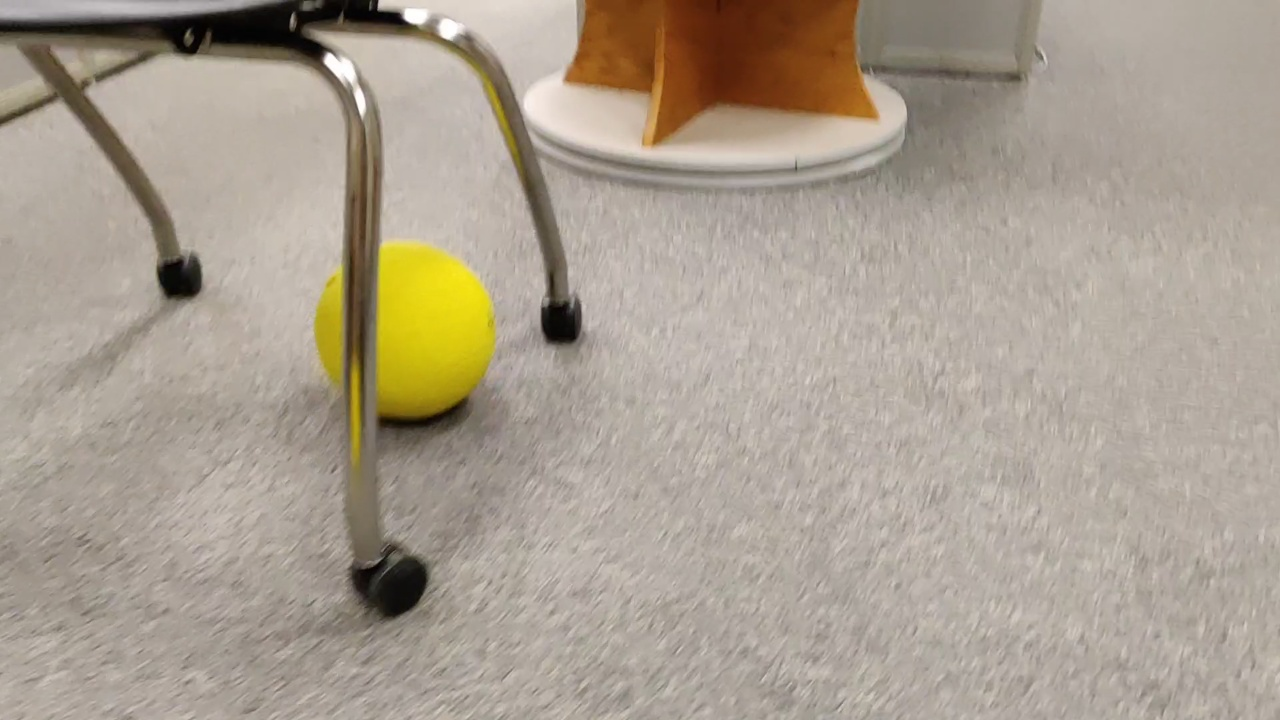Ball: (312, 243, 507, 428)
